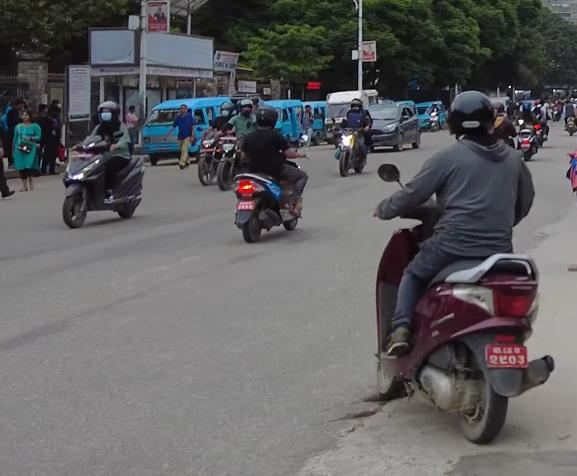bike: (330, 120, 368, 177)
car: (357, 101, 424, 153)
scooter: (365, 157, 564, 444), (59, 127, 149, 234), (232, 137, 314, 248)
